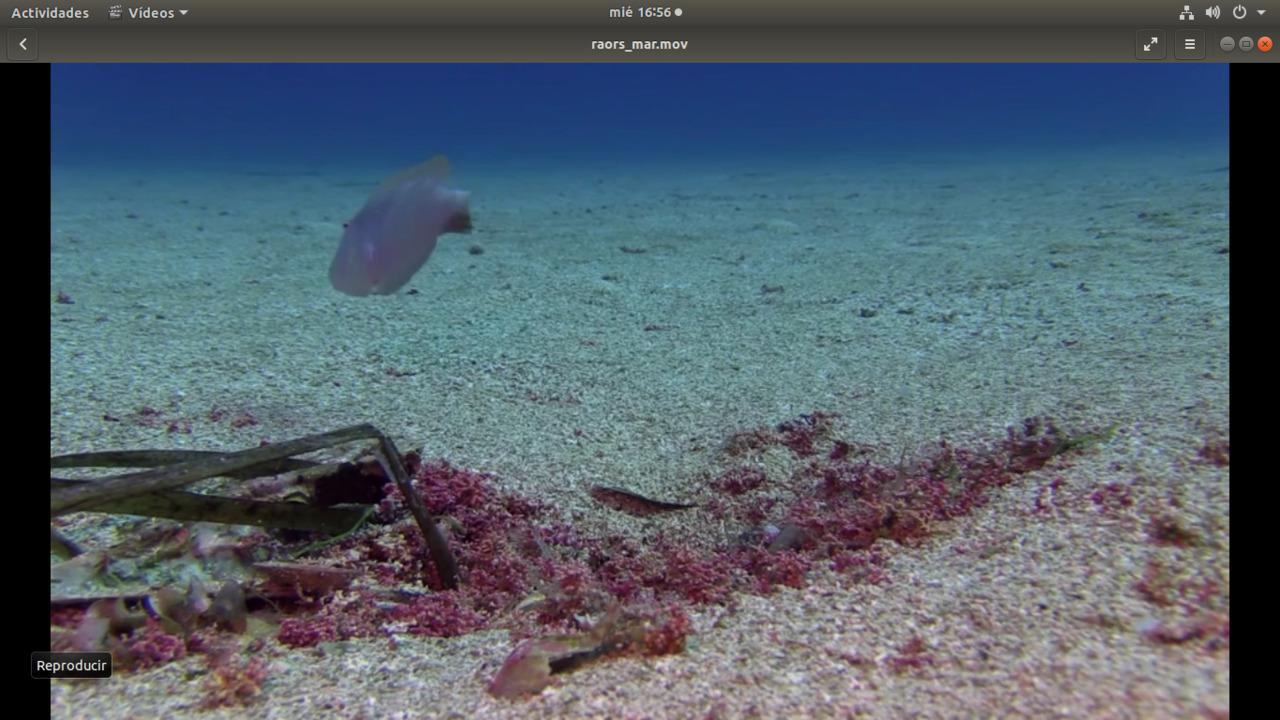raor: (317, 147, 483, 310)
